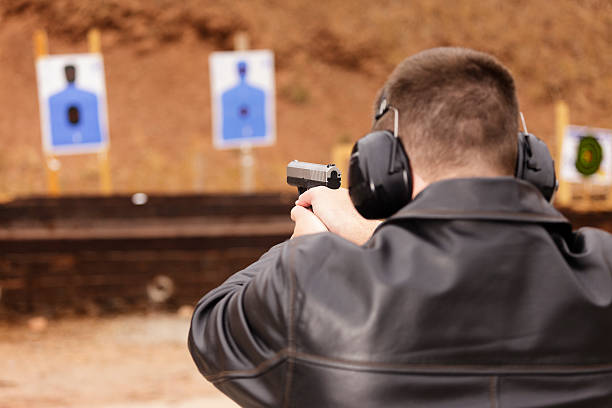gun: (287, 161, 341, 193)
